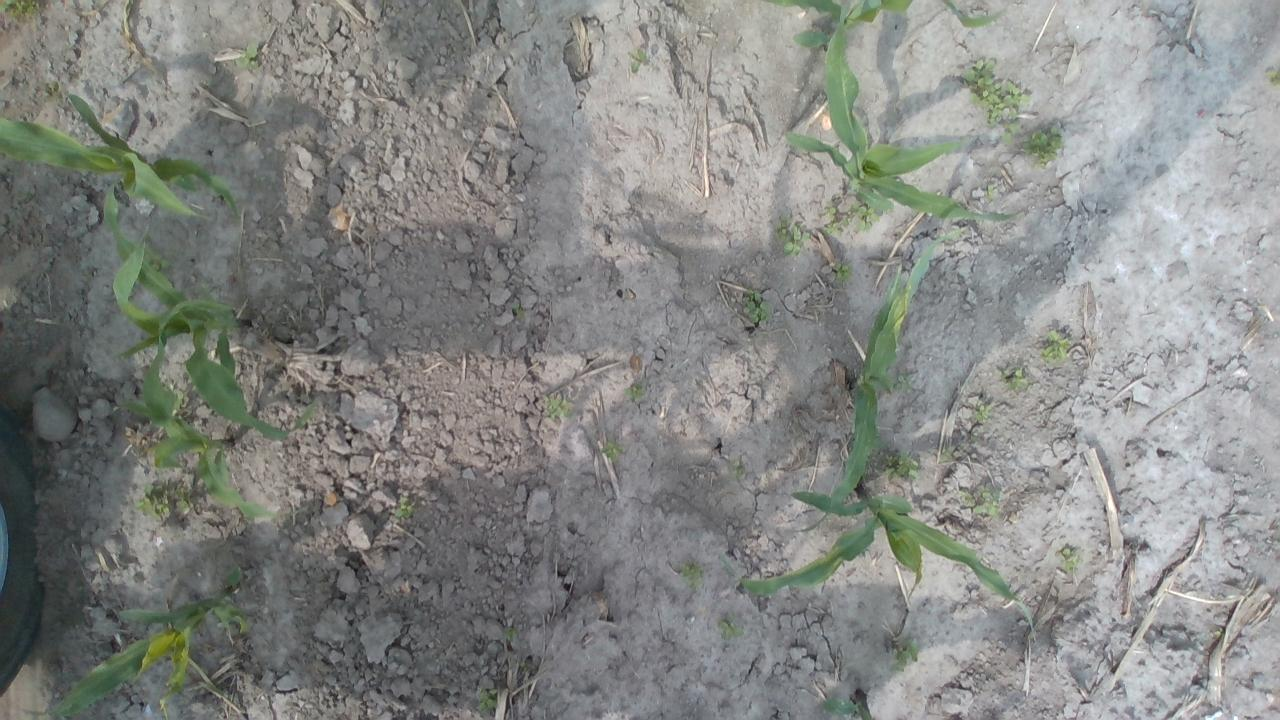Maize: (102, 182, 326, 442), (790, 228, 970, 532), (716, 490, 1042, 651), (781, 23, 1016, 226), (0, 92, 246, 229), (113, 334, 286, 524), (44, 567, 254, 718), (760, 1, 1012, 49), (819, 689, 877, 720)
Weeds: (966, 62, 1026, 118), (138, 483, 194, 520), (1019, 126, 1064, 168), (1043, 331, 1075, 367), (782, 225, 808, 260), (1004, 364, 1034, 392), (745, 293, 773, 322), (972, 489, 1001, 516), (886, 458, 918, 482), (716, 618, 744, 644), (854, 204, 880, 231), (1, 0, 42, 15), (237, 43, 259, 70), (892, 644, 916, 668), (476, 688, 496, 715), (548, 399, 574, 417), (679, 563, 702, 583), (892, 374, 914, 391), (1060, 546, 1078, 566), (628, 50, 644, 72), (972, 404, 989, 422), (398, 500, 412, 519), (599, 442, 616, 456), (822, 207, 837, 222), (1268, 65, 1280, 82), (836, 264, 848, 280), (626, 385, 636, 399), (502, 624, 512, 638)
